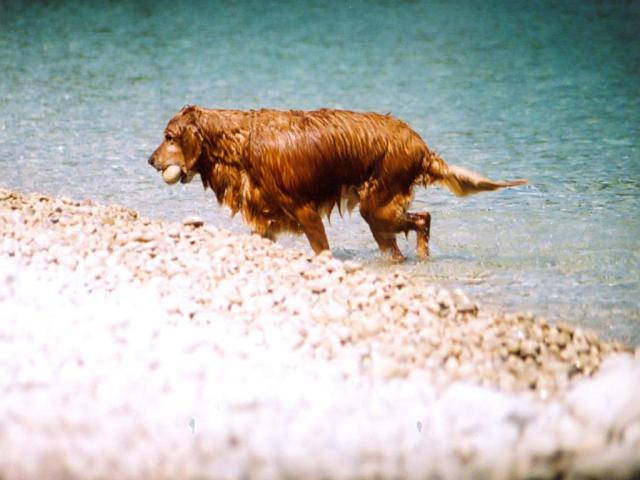Dog: (148, 103, 530, 266)
